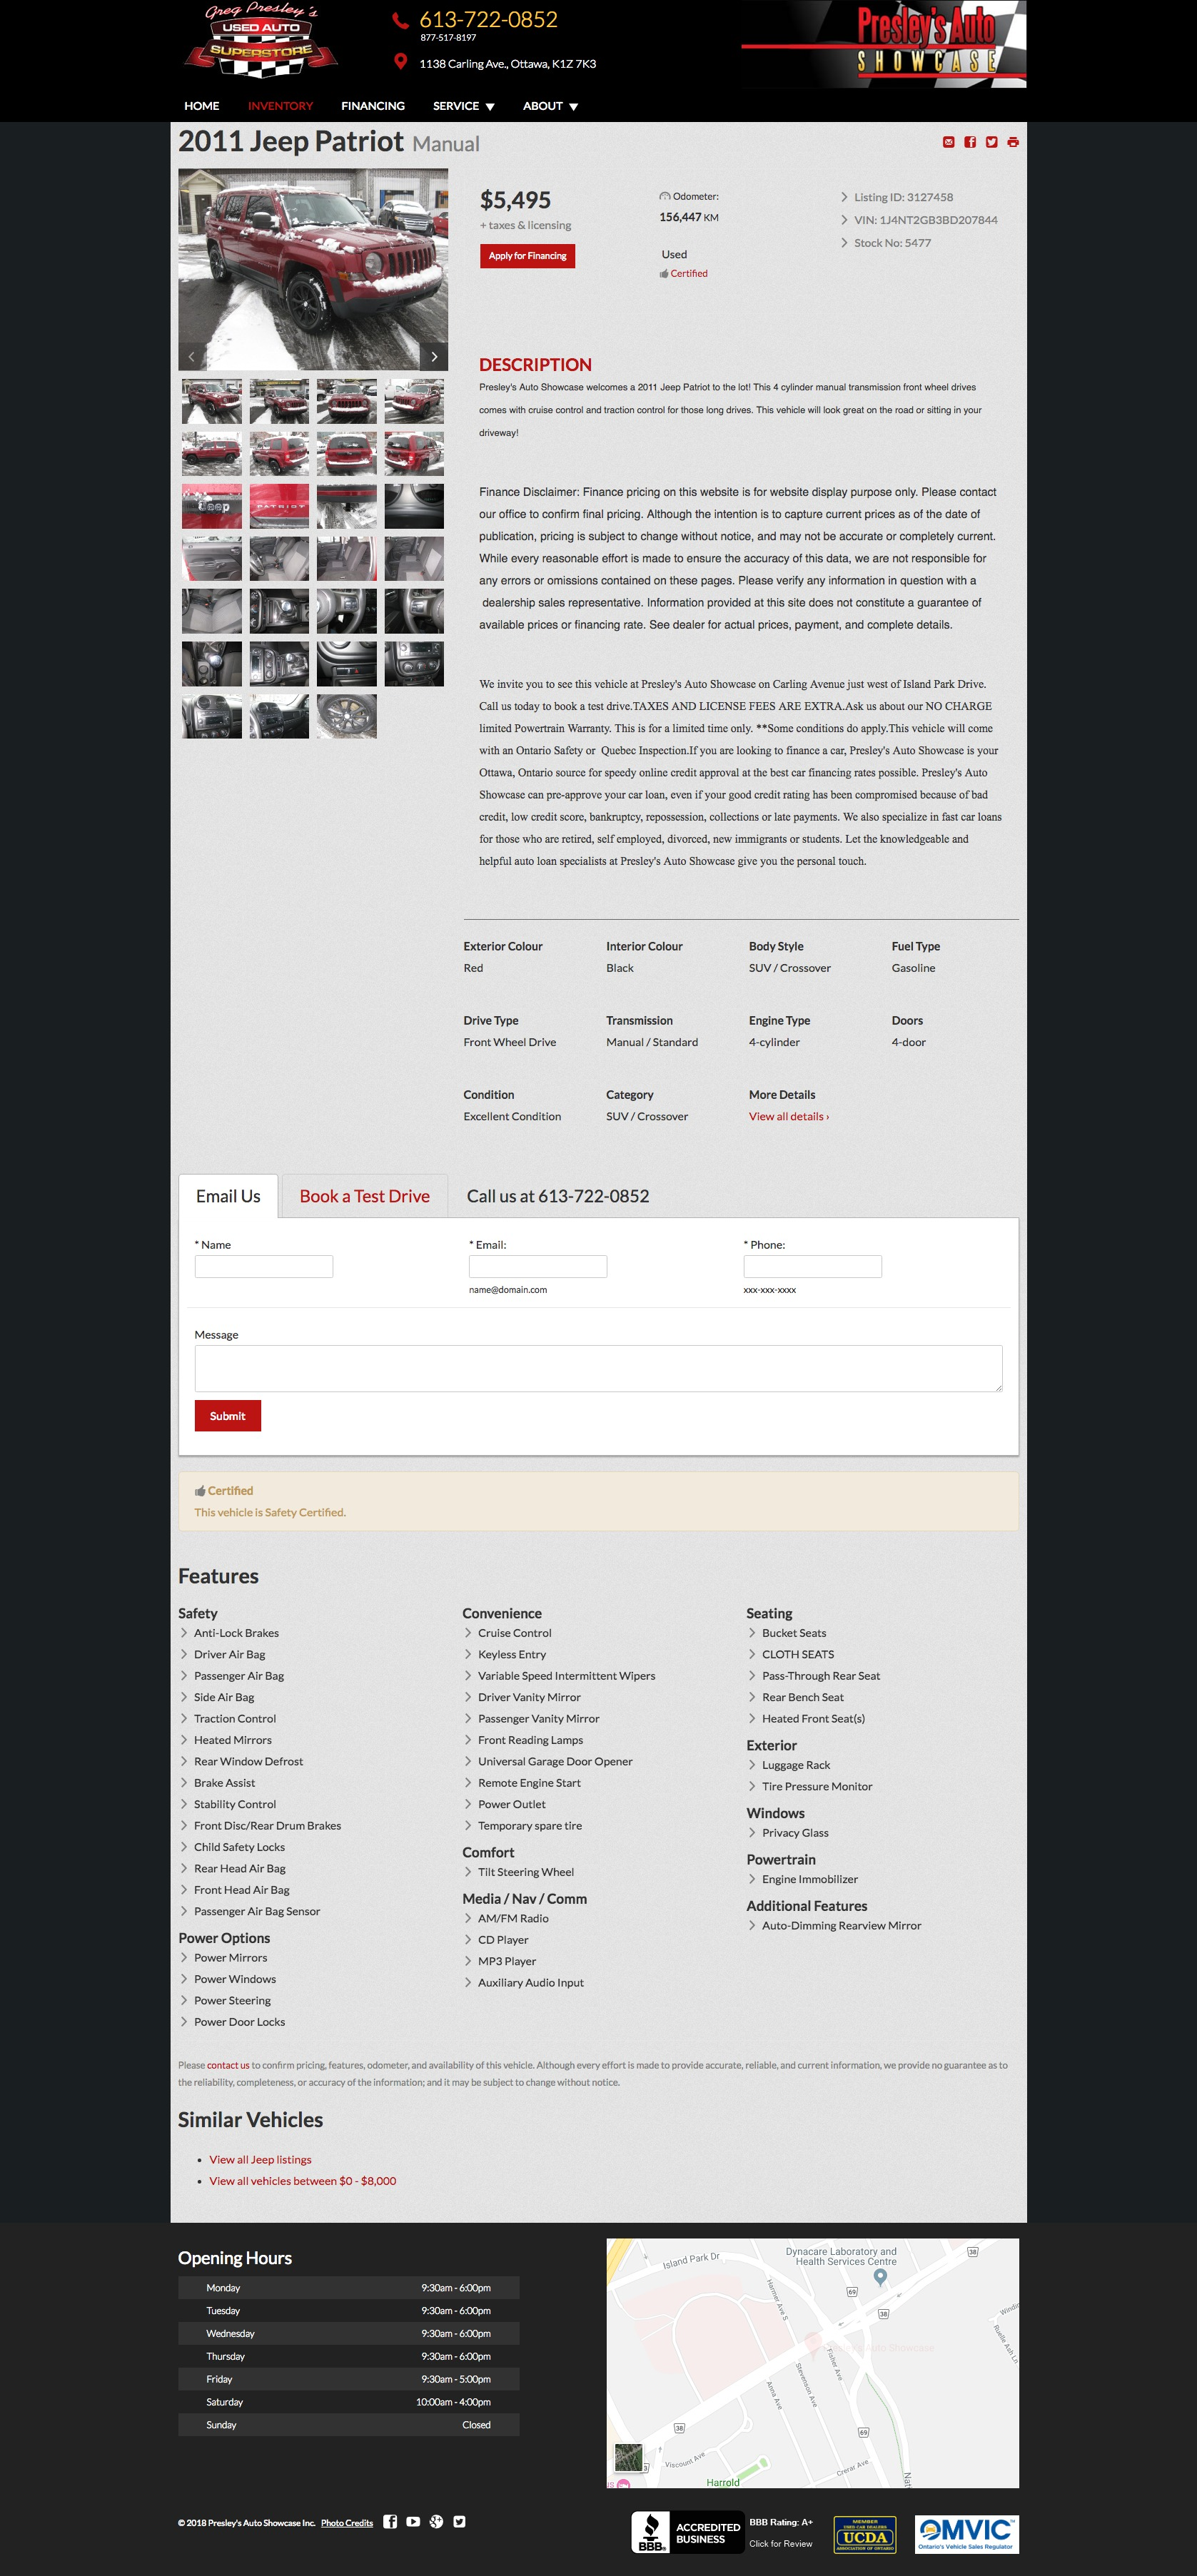car: (419, 342, 449, 373)
